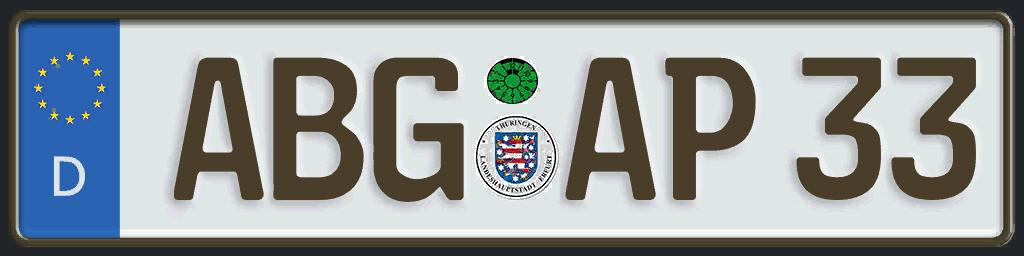3: (785, 45, 886, 206), (890, 48, 983, 206)
A: (168, 45, 267, 208), (560, 50, 660, 207)
B: (270, 47, 369, 204)
G: (368, 49, 468, 205)
P: (660, 47, 764, 207)
